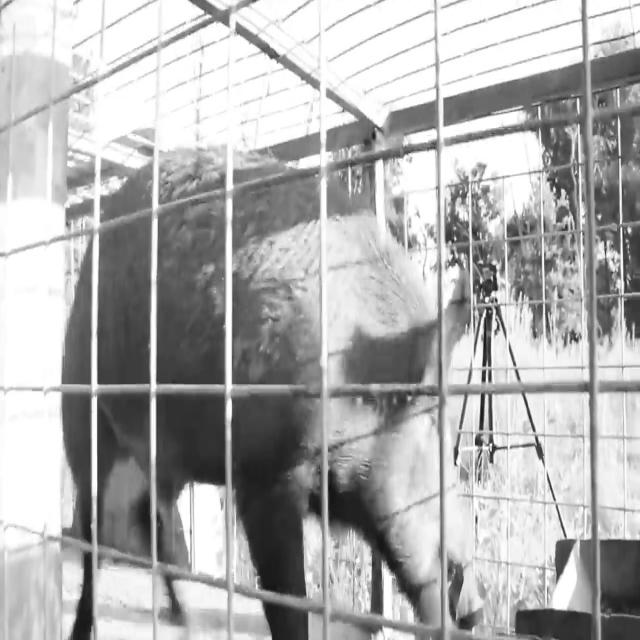pig: (49, 155, 493, 640)
